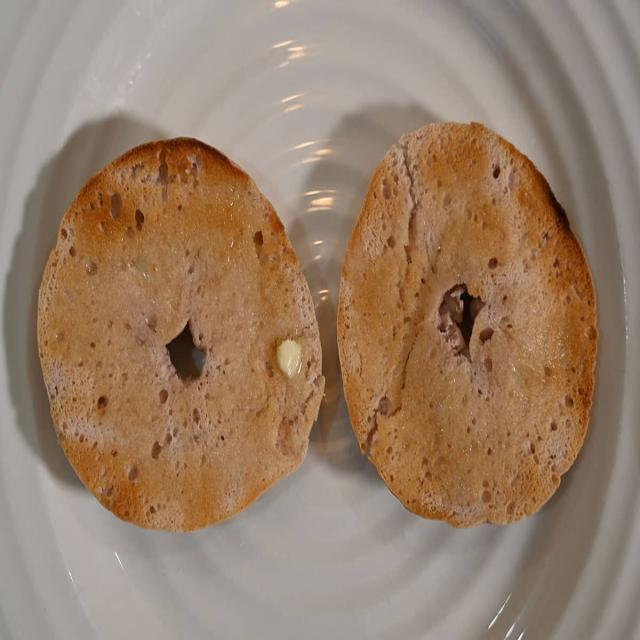Bagel: (38, 137, 325, 531), (338, 124, 598, 526)
